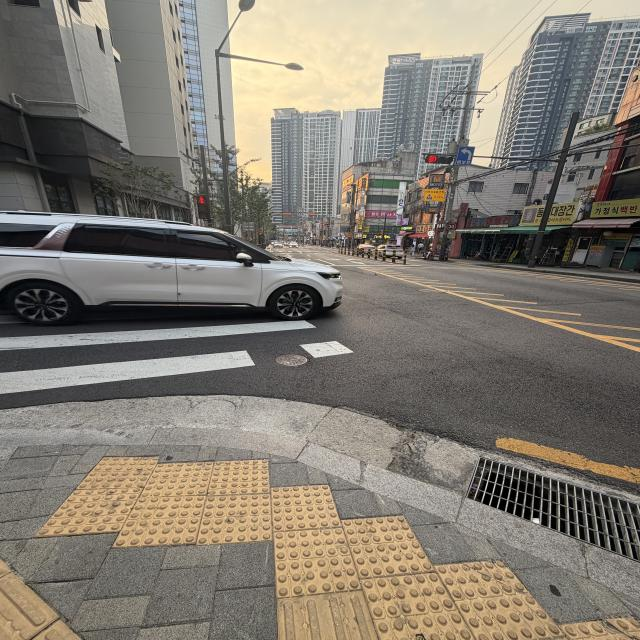car: (2, 195, 377, 347)
